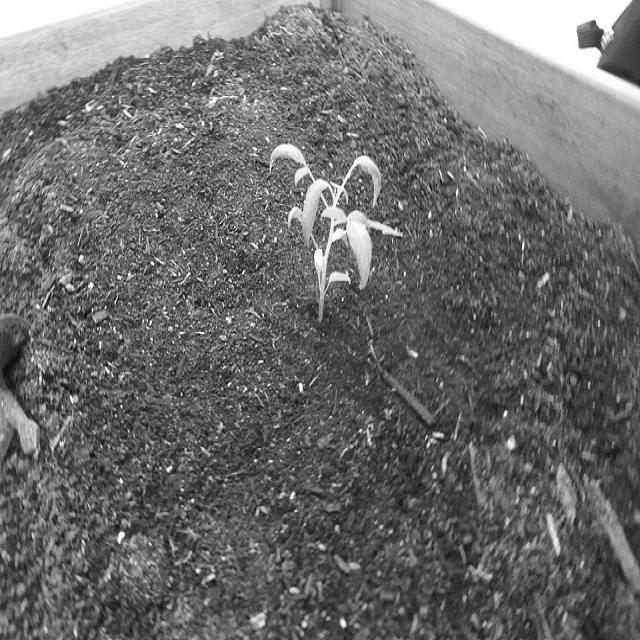Healthy: (264, 136, 407, 329)
